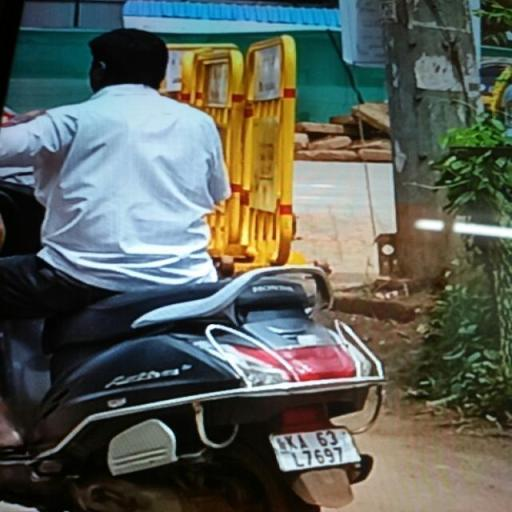bike: (2, 19, 394, 512)
numberplate: (269, 415, 360, 476)
withouthelmet: (92, 30, 170, 84)
